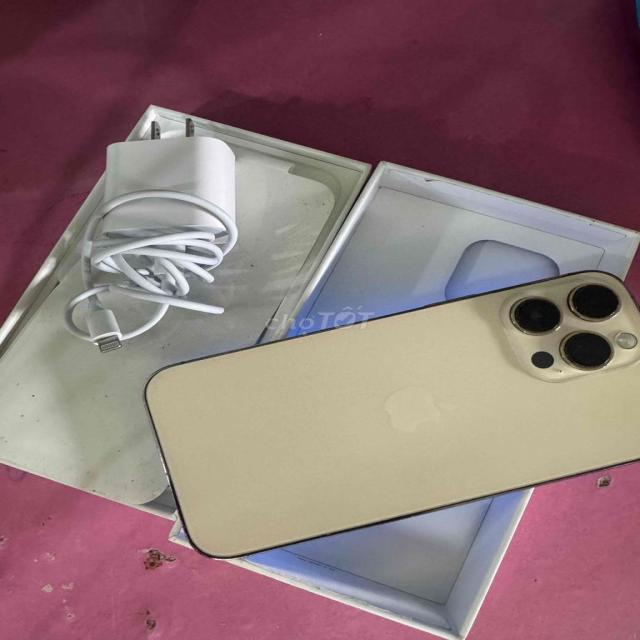gen_14: (136, 269, 640, 556)
scratch: (151, 442, 181, 510)
